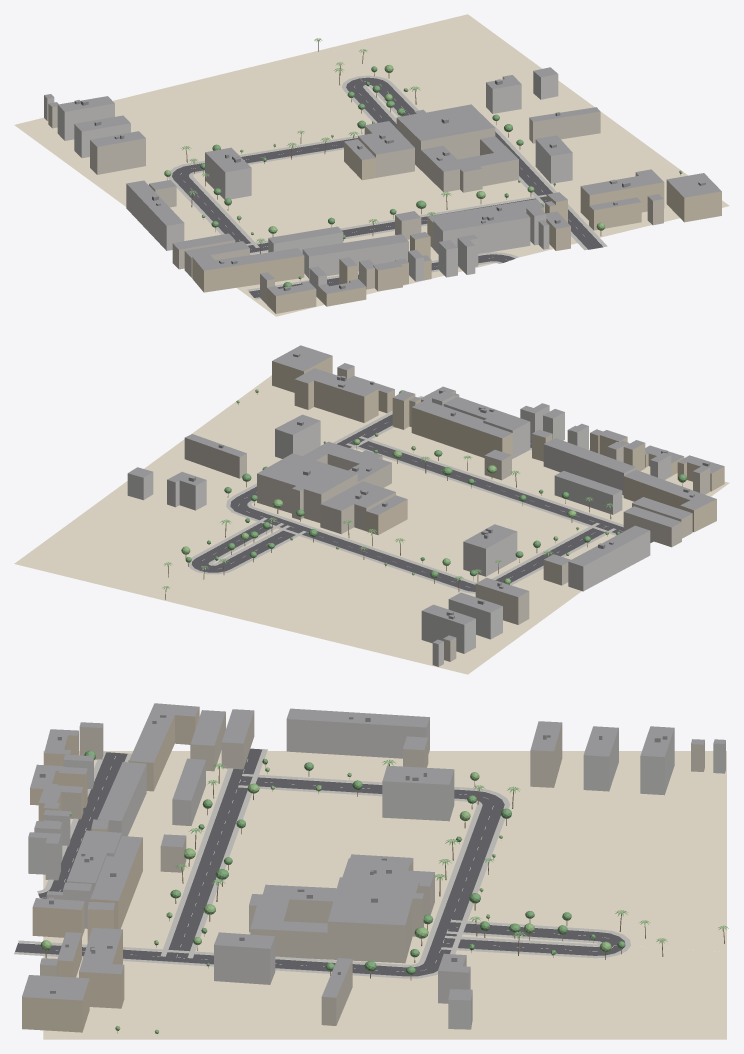
The model's file is tile_3_-3.glb.
3 renders of one model, top to bottom at view 1: azimuth 30°, elevation 25°; view 2: azimuth 150°, elevation 25°; view 3: azimuth 270°, elevation 25°, orthographic. The views are drawn at different scales.
Visible parts, largest first — view 1: nature_ground, buildings_roof, buildings_concrete_light, buildings_sandstone, buildings_concrete_warm, roads_asphalt, roads_sidewalk, nature_foliage_a, nature_palm_leaf, nature_foliage_b; view 2: nature_ground, buildings_roof, buildings_concrete_light, buildings_sandstone, buildings_concrete_warm, roads_asphalt, roads_sidewalk, nature_foliage_a, nature_foliage_b, nature_palm_leaf; view 3: nature_ground, buildings_roof, buildings_concrete_light, roads_asphalt, buildings_concrete_warm, buildings_sandstone, roads_sidewalk, nature_foliage_a, nature_foliage_b, nature_palm_leaf, nature_trunk.
Part boxes in pixels (x1,y1,x2,y2): nature_ground: (14, 14, 729, 316); buildings_roof: (44, 67, 721, 296); buildings_concrete_light: (44, 71, 572, 297); buildings_sandstone: (192, 141, 721, 313); buildings_concrete_warm: (48, 104, 663, 304); roads_asphalt: (172, 77, 603, 297); roads_sidewalk: (168, 75, 607, 299); nature_foliage_a: (200, 66, 555, 287); nature_palm_leaf: (181, 38, 451, 242); nature_foliage_b: (164, 64, 682, 234); nature_ground: (14, 375, 729, 674); buildings_roof: (128, 345, 724, 644); buildings_concrete_light: (127, 395, 671, 666); buildings_sandstone: (272, 356, 724, 535); buildings_concrete_warm: (184, 366, 710, 661); roads_asphalt: (191, 414, 653, 591); roads_sidewalk: (187, 396, 623, 593); nature_foliage_a: (185, 441, 686, 578); nature_foliage_b: (181, 389, 608, 584); nature_palm_leaf: (162, 455, 614, 589); nature_ground: (43, 751, 726, 1039); buildings_roof: (22, 703, 725, 1000); buildings_concrete_light: (28, 718, 725, 1029); roads_asphalt: (15, 748, 624, 976); buildings_concrete_warm: (40, 711, 704, 1025); buildings_sandstone: (22, 707, 413, 1032); roads_sidewalk: (14, 749, 630, 978); nature_foliage_a: (84, 750, 625, 974); nature_foliage_b: (40, 760, 611, 1033); nature_palm_leaf: (175, 759, 728, 943); nature_trunk: (45, 762, 724, 1033).
Bounding box in the file's own units: 266 × 17.07 × 262.
